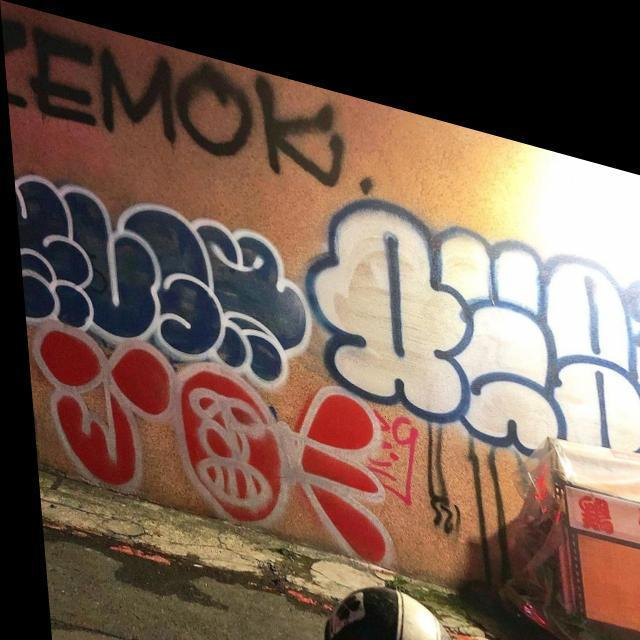-: (292, 149, 640, 463), (29, 314, 388, 549), (9, 142, 320, 391), (1, 2, 352, 198)
